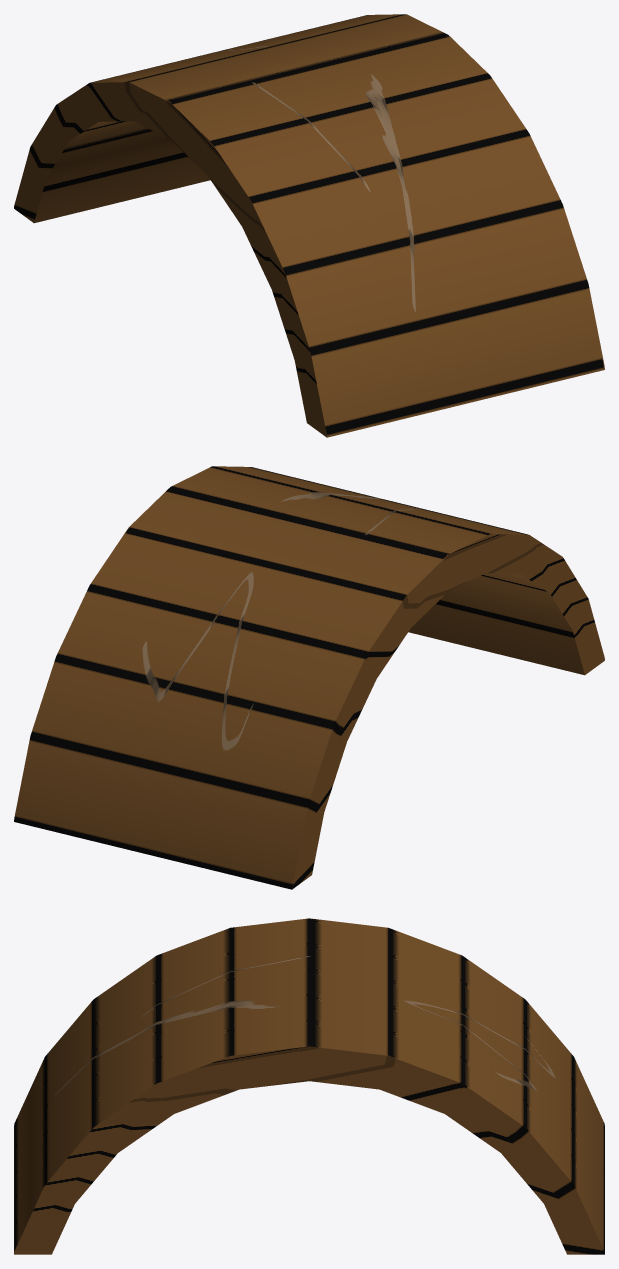
File: CollidionBridge.FBX
3 views of the same model, one above another, from view 1: azimuth 30°, elevation 25°; view 2: azimuth 150°, elevation 25°; view 3: azimuth 270°, elevation 25° (orthographic). The views are drawn at different scales.
Parts seen in each view (by area): view 1: Cone001; view 2: Cone001; view 3: Cone001.
Boxes of the visible parts, x1,y1,x2,y2 form: Cone001: (14,14,604,437); Cone001: (14,466,604,889); Cone001: (14,918,604,1254).
Bounding box in the file's own units: 80 × 156 × 60.62.
Materials: 1 (1 with a texture image).
